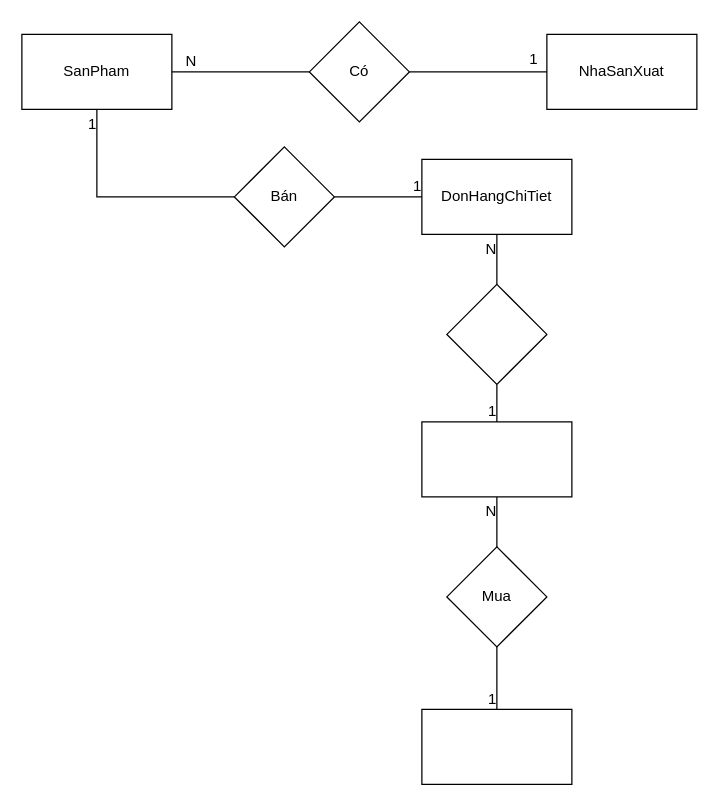
Some shapes in this 719 by 806 pixel diagram are drawn without their labels. The shapes that lost their labels are listed below. From the top down, each one's centre as x and y in pixels, then its label:
At point 496,333: "Gồm".
At point 496,459: "DonHang".
At point 496,746: "NguoiDung".
